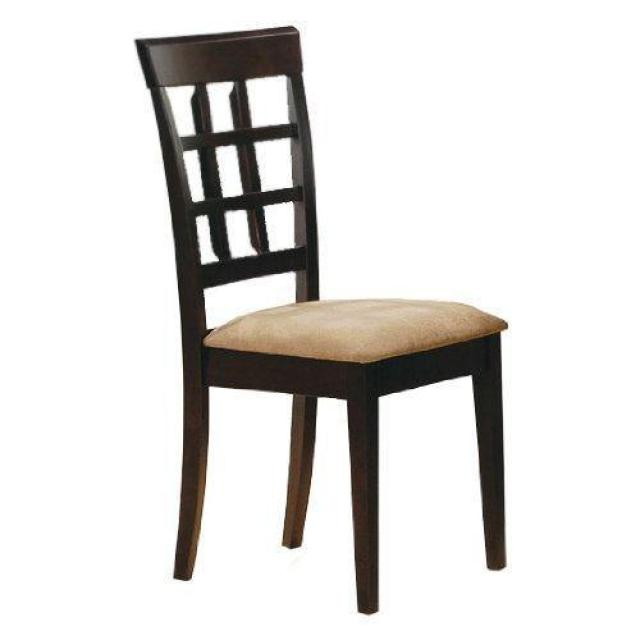chair: (136, 27, 509, 617)
